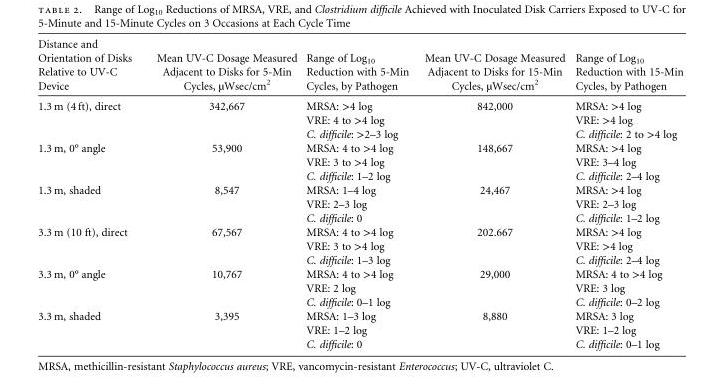table: (37, 37, 682, 349)
table column: (143, 37, 300, 349), (415, 37, 569, 349), (300, 37, 415, 349), (569, 37, 682, 349), (37, 37, 143, 349)
table column header: (37, 37, 682, 94)
table row: (37, 37, 682, 94), (37, 94, 682, 112), (37, 153, 682, 168), (37, 181, 682, 196), (37, 237, 682, 252), (37, 265, 682, 280), (37, 125, 682, 139), (37, 139, 682, 153), (37, 196, 682, 210), (37, 223, 682, 237), (37, 280, 682, 294), (37, 294, 682, 308), (37, 308, 682, 322), (37, 322, 682, 336), (37, 112, 682, 125), (37, 168, 682, 181), (37, 210, 682, 223), (37, 252, 682, 265), (37, 336, 682, 349)
table spanning cell: (37, 94, 143, 139), (37, 265, 143, 308), (37, 139, 143, 181), (37, 181, 143, 223), (37, 223, 143, 265), (37, 308, 143, 349)
